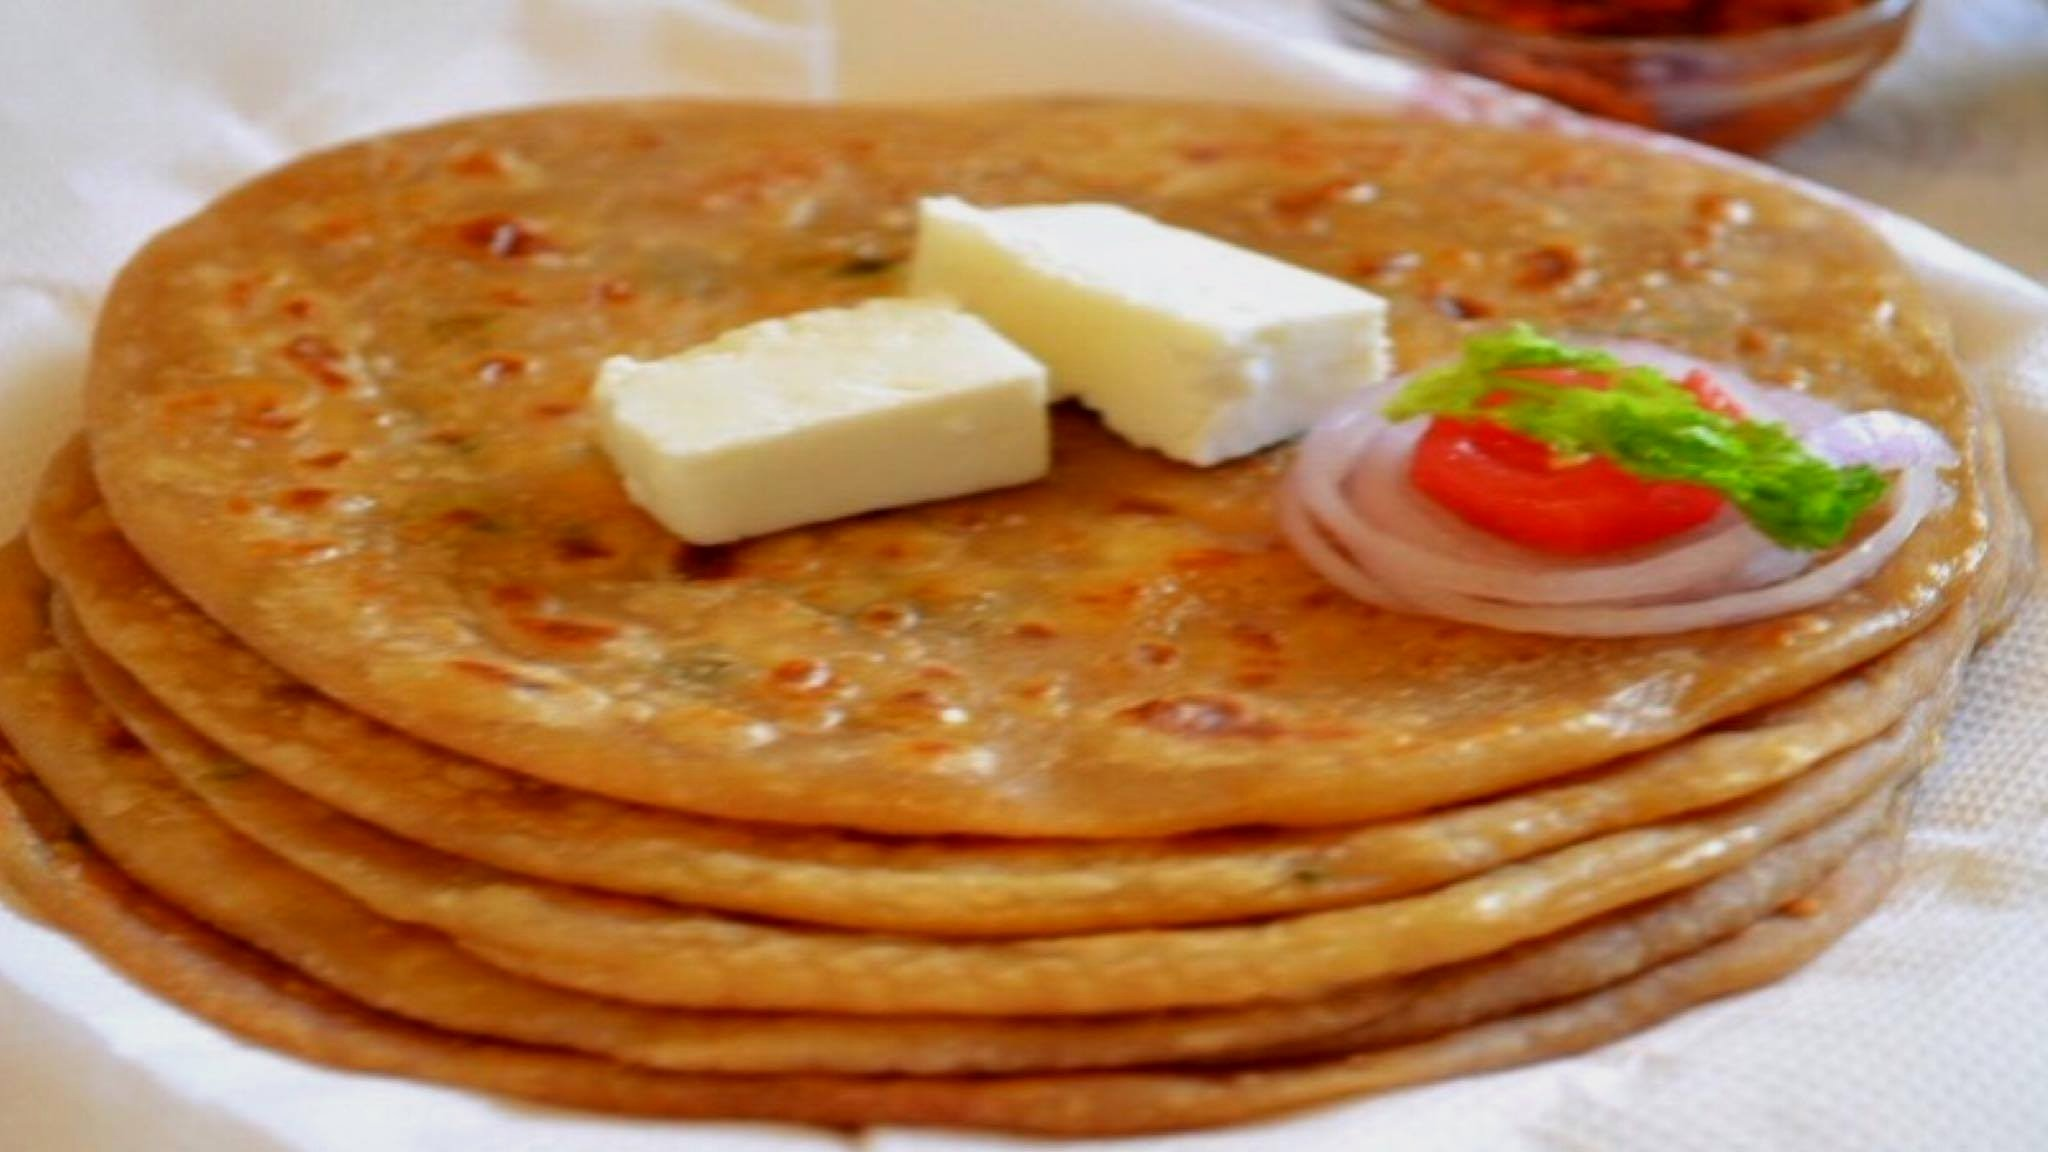aloo_paratha: (3, 68, 1999, 1151)
